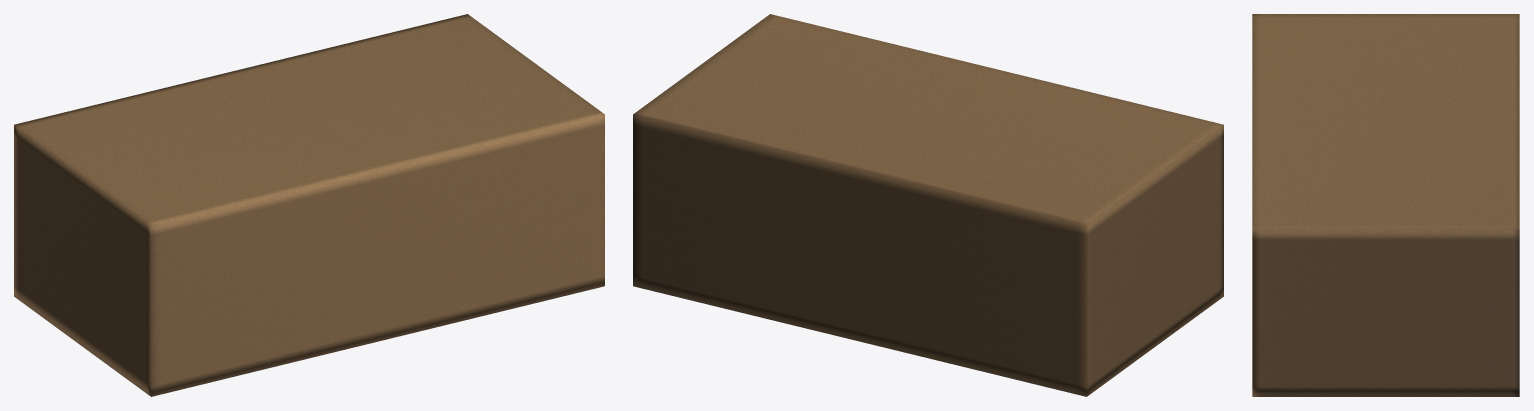
File: Brick.glb
The picture shows the model from 3 angles, left to right: view 1: azimuth 30°, elevation 25°; view 2: azimuth 150°, elevation 25°; view 3: azimuth 270°, elevation 25°; orthographic projection. The views are drawn at different scales.
Parts seen in each view (by area): view 1: Cube.001; view 2: Cube.001; view 3: Cube.001.
Boxes of the visible parts, box(x1,y1,x2,y2) form: Cube.001: box(14, 14, 604, 396); Cube.001: box(633, 14, 1223, 396); Cube.001: box(1252, 14, 1519, 396).
Bounding box in the file's own units: 0.42 × 0.152 × 0.22.
Materials: 1 (1 with a texture image).
